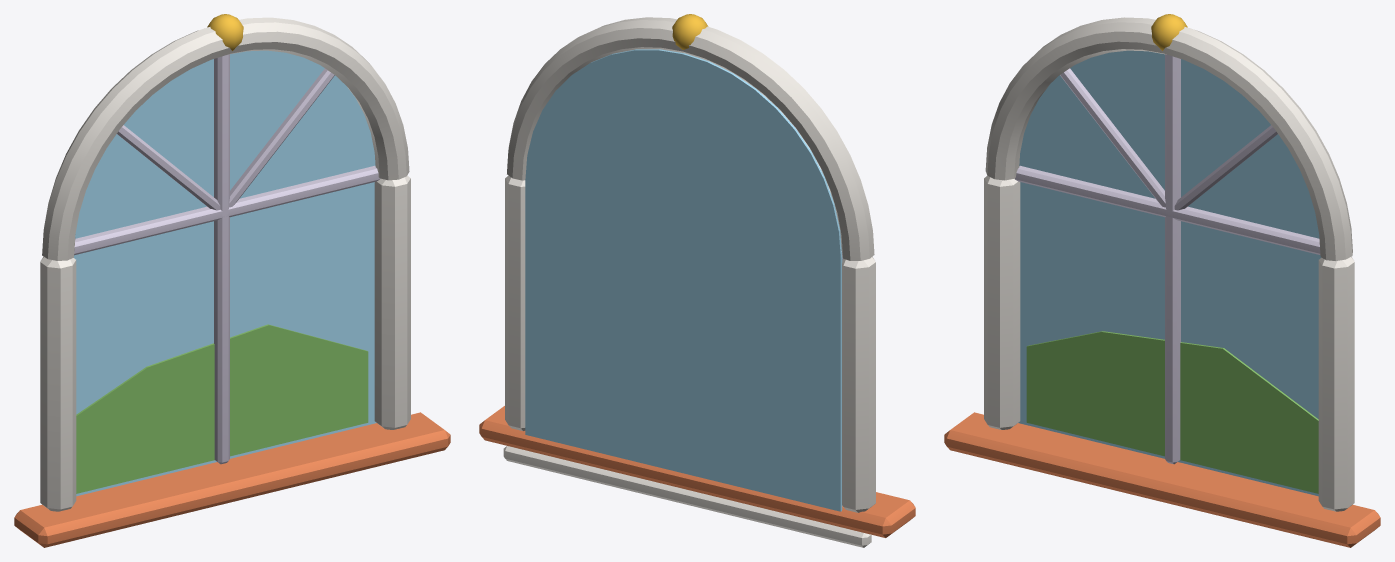
Rendered from janela-arco-colorido.glb.
3 views of the same model, side by side, from view 1: azimuth 30°, elevation 25°; view 2: azimuth 150°, elevation 25°; view 3: azimuth 330°, elevation 25° (orthographic).
Parts seen in each view (by area): view 1: moldura, placa, placa.001; view 2: placa, moldura; view 3: moldura, placa, placa.001.
Boxes of the visible parts, x1=… form: moldura: x1=14, y1=14, x2=450, y2=547; placa: x1=74, y1=50, x2=376, y2=496; placa.001: x1=76, y1=324, x2=368, y2=493; placa: x1=525, y1=49, x2=842, y2=511; moldura: x1=479, y1=14, x2=915, y2=547; moldura: x1=944, y1=14, x2=1380, y2=547; placa: x1=1018, y1=50, x2=1321, y2=496; placa.001: x1=1026, y1=331, x2=1318, y2=493.
Size of the model in its own units: 1.7 by 1.91 by 0.23.
